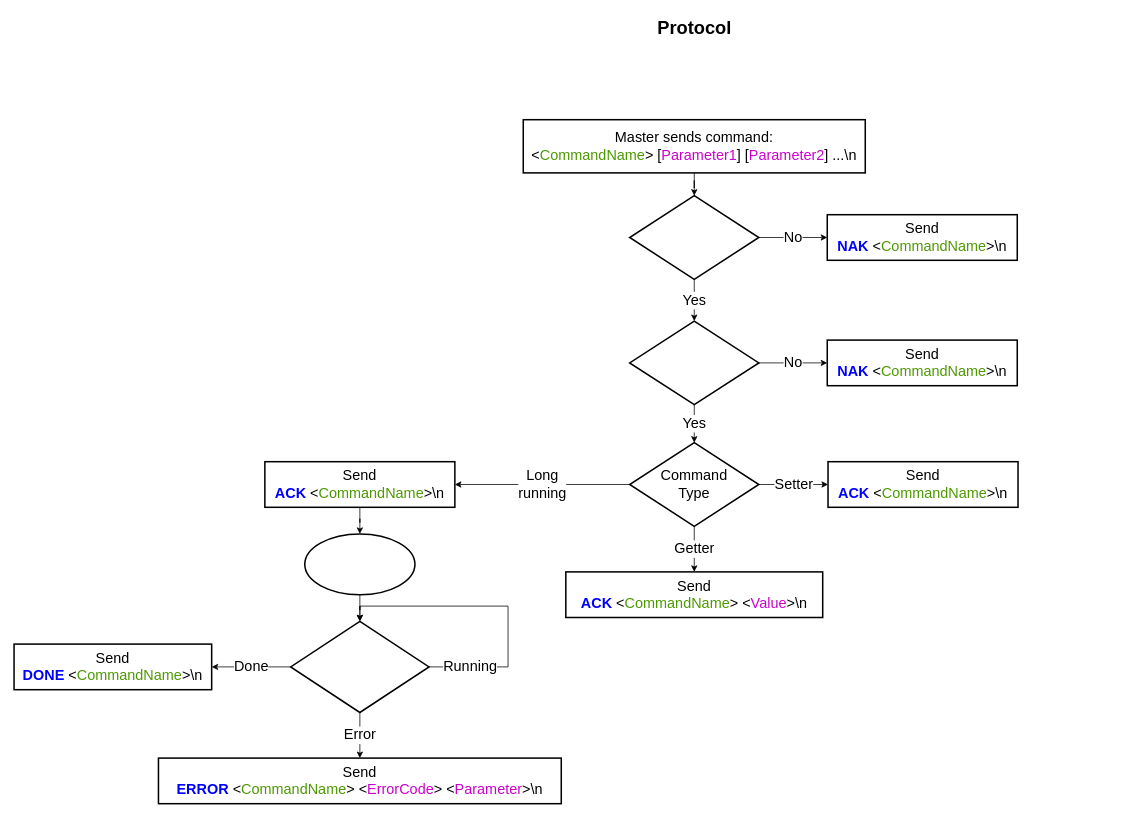
This 1132x817 diagram has some shape labels left out. The box of each missing label's shape, as (x1, y1, x2, y2) in pixels:
Call Start-Function: (304, 533, 415, 595)
Command recognized?: (629, 195, 759, 280)
Parameters OK?: (629, 320, 759, 405)
Update-Function result: (290, 620, 429, 713)
